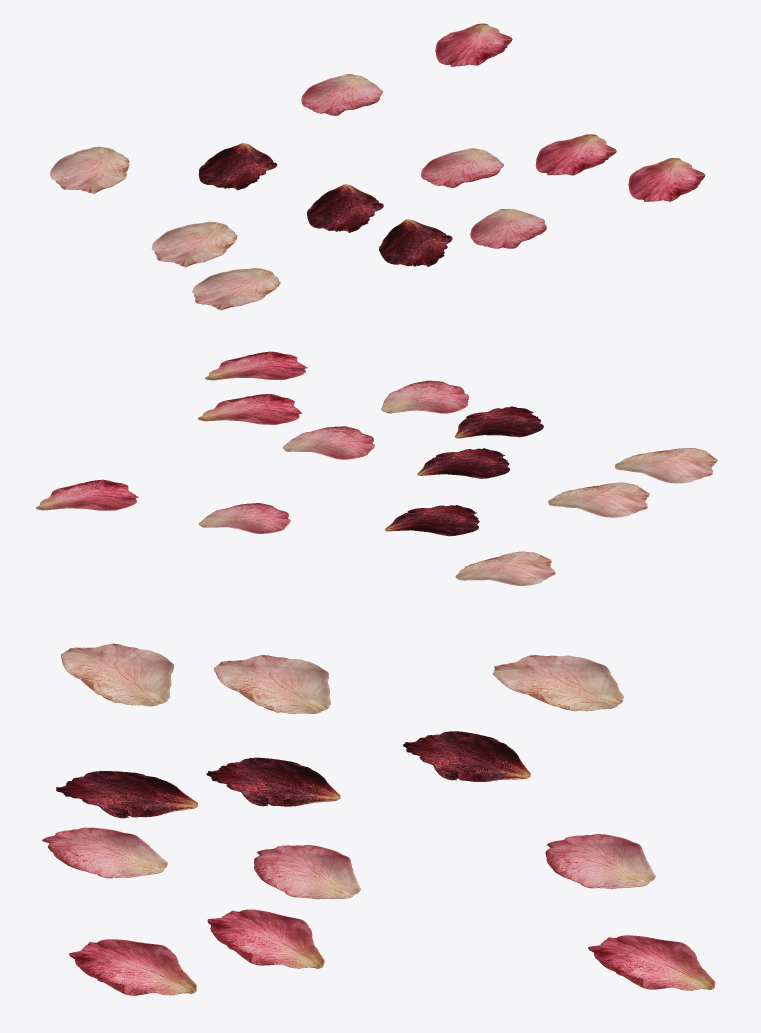
File: kembang.fbx
3 views of the same model, one above another, from view 1: azimuth 30°, elevation 25°; view 2: azimuth 150°, elevation 25°; view 3: azimuth 270°, elevation 25° (orthographic). The views are drawn at different scales.
Parts seen in each view (by area): view 1: Plane.006; view 2: Plane.006; view 3: Plane.006.
Part boxes in pixels (left/top/right/bottom): Plane.006: left=50, top=23, right=705, bottom=310; Plane.006: left=36, top=351, right=717, bottom=585; Plane.006: left=42, top=643, right=715, bottom=995.
Bounding box in the file's own units: 128 × 2.57 × 103.
